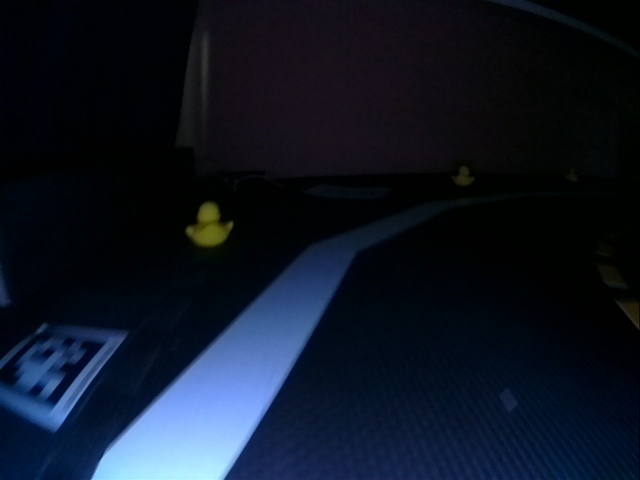Duckie: (186, 203, 232, 246), (455, 166, 474, 187), (566, 170, 578, 182)
QR code: (6, 322, 121, 427)
